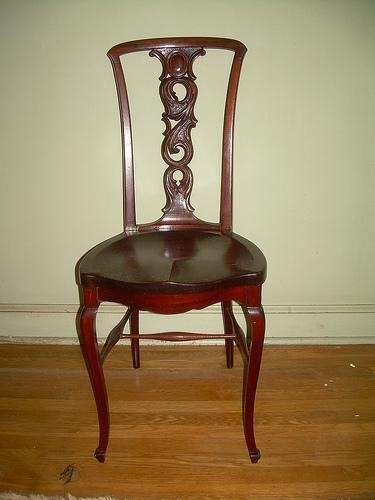obstacle: (76, 37, 265, 462)
